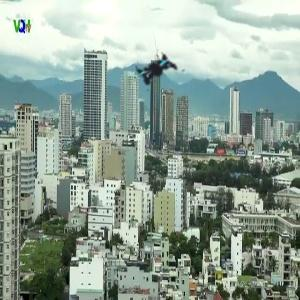drone: (108, 22, 211, 125)
